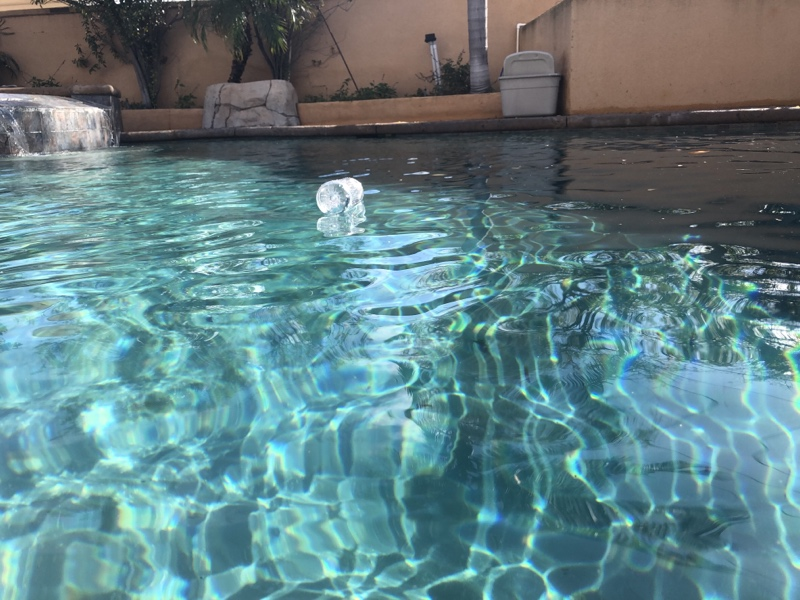Plastic Bottle: (314, 175, 365, 217)
